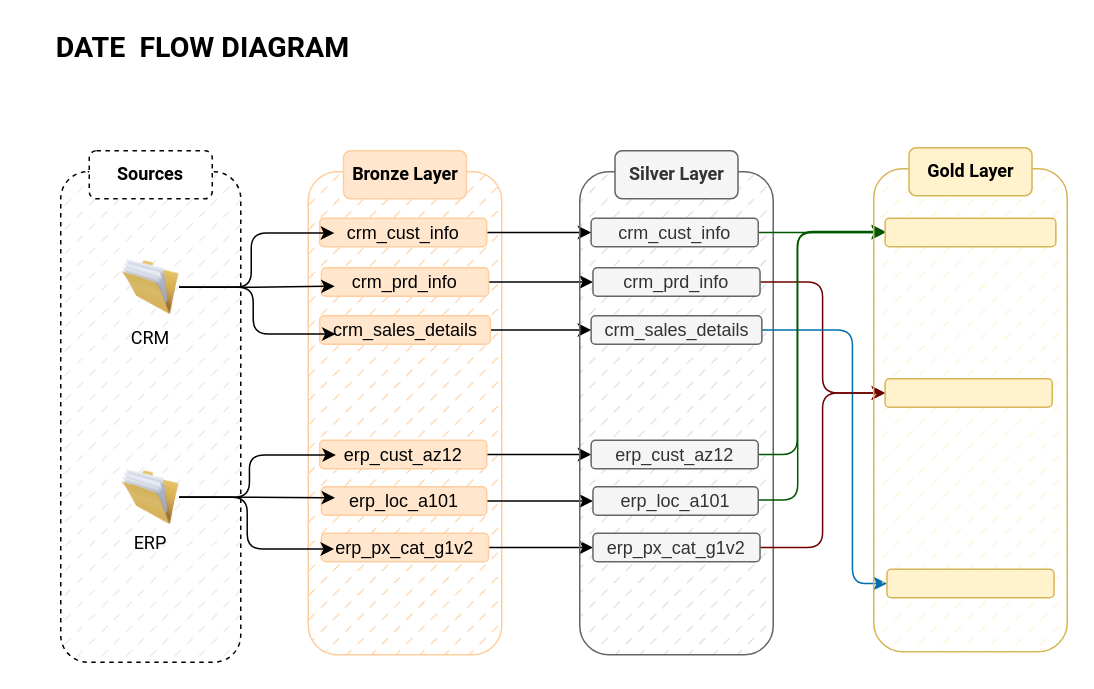
Image size: 1094x689. Some labels were removed from this diagram. The shapes that lost their labels are listed below. From the top down, each one's centre as x and y in pixels, then its label:
At pixel 970 232: "dim_customers".
At pixel 968 392: "dim_products".
At pixel 969 583: "fact_sales".
